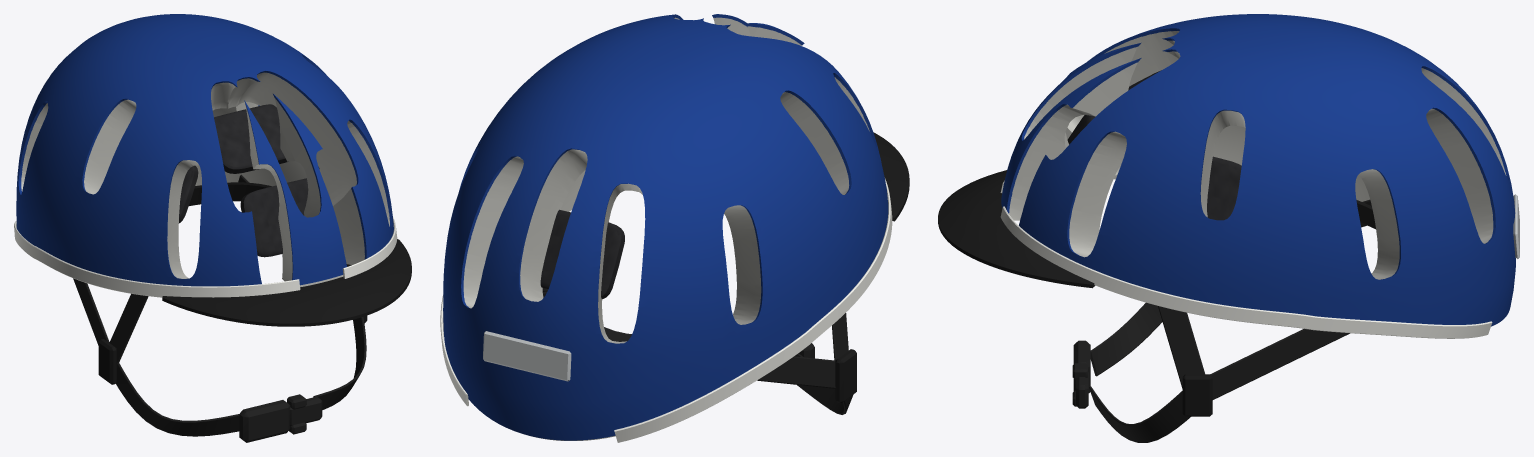
File: capacete_ciclismo.glb
The picture shows the model from 3 angles, left to right: view 1: azimuth 30°, elevation 25°; view 2: azimuth 150°, elevation 25°; view 3: azimuth 270°, elevation 25°; orthographic projection. The views are drawn at different scales.
Visible parts, largest first — view 1: capacete_ciclismo_pc_azul, capacete_ciclismo_eps, capacete_ciclismo_pc_preto, capacete_ciclismo_nylon_preto, capacete_ciclismo_forro_preto, capacete_ciclismo_abs_branco; view 2: capacete_ciclismo_pc_azul, capacete_ciclismo_eps, capacete_ciclismo_abs_branco, capacete_ciclismo_nylon_preto, capacete_ciclismo_refletivo, capacete_ciclismo_pc_preto, capacete_ciclismo_forro_preto; view 3: capacete_ciclismo_pc_azul, capacete_ciclismo_eps, capacete_ciclismo_nylon_preto, capacete_ciclismo_pc_preto, capacete_ciclismo_abs_branco, capacete_ciclismo_forro_preto.
Part boxes in pixels (left/top/right/bottom): capacete_ciclismo_pc_azul: left=16, top=14, right=393, bottom=286; capacete_ciclismo_eps: left=21, top=72, right=389, bottom=287; capacete_ciclismo_pc_preto: left=98, top=182, right=411, bottom=384; capacete_ciclismo_nylon_preto: left=73, top=174, right=366, bottom=442; capacete_ciclismo_forro_preto: left=178, top=104, right=319, bottom=257; capacete_ciclismo_abs_branco: left=14, top=217, right=397, bottom=297; capacete_ciclismo_pc_azul: left=443, top=14, right=888, bottom=440; capacete_ciclismo_eps: left=463, top=17, right=869, bottom=440; capacete_ciclismo_abs_branco: left=440, top=178, right=892, bottom=442; capacete_ciclismo_nylon_preto: left=542, top=292, right=853, bottom=414; capacete_ciclismo_refletivo: left=483, top=331, right=571, bottom=381; capacete_ciclismo_pc_preto: left=542, top=132, right=909, bottom=403; capacete_ciclismo_forro_preto: left=540, top=209, right=624, bottom=299; capacete_ciclismo_pc_azul: left=1001, top=14, right=1515, bottom=326; capacete_ciclismo_eps: left=1009, top=31, right=1506, bottom=325; capacete_ciclismo_nylon_preto: left=1072, top=199, right=1371, bottom=442; capacete_ciclismo_pc_preto: left=938, top=170, right=1375, bottom=416; capacete_ciclismo_abs_branco: left=1000, top=180, right=1492, bottom=338; capacete_ciclismo_forro_preto: left=1067, top=70, right=1241, bottom=220.
Size of the model in its own units: 0.203 by 0.213 by 0.3101.
Materials: 8 (1 with a texture image).
